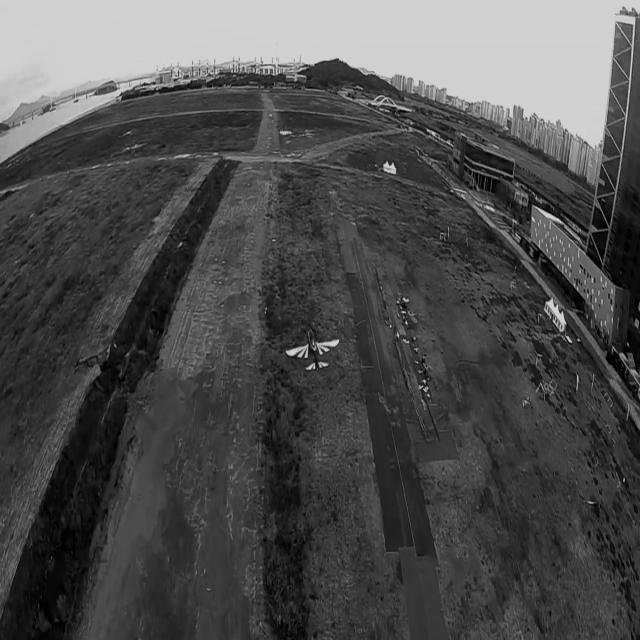iha: (313, 327, 318, 382)
